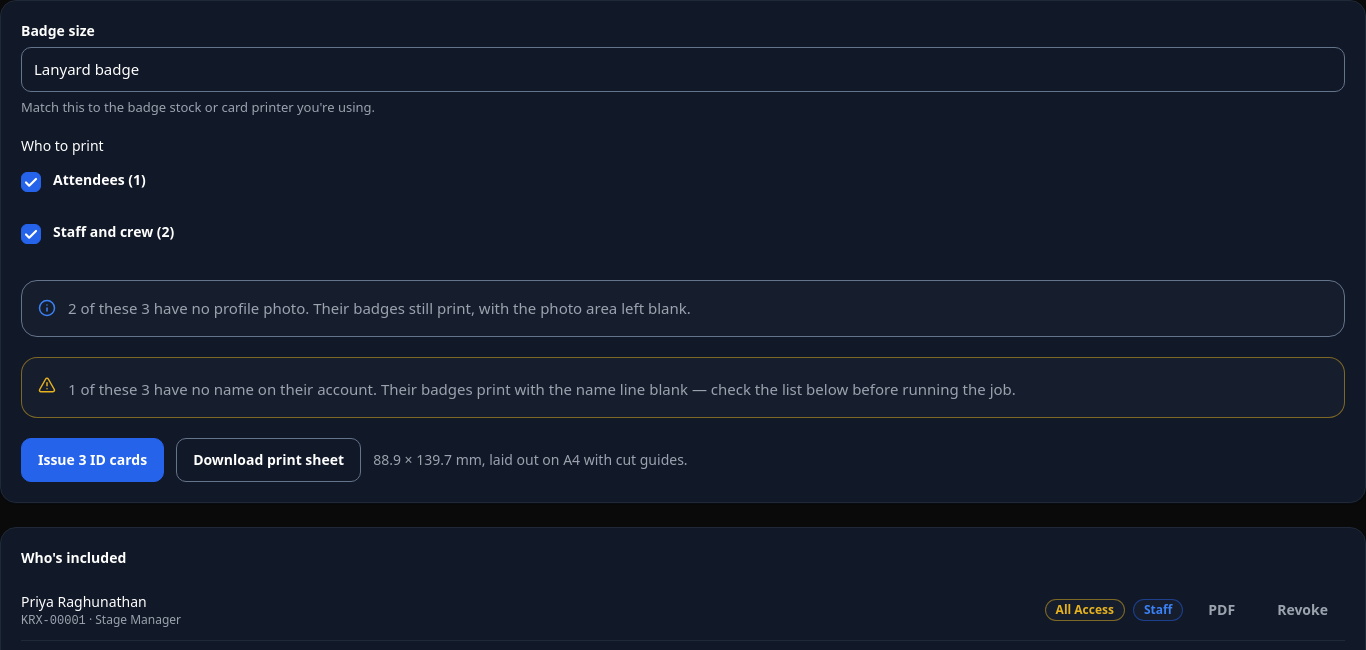
Scenario: the print run › says nothing was printed when the sheet fails
The image size is (1366, 650).
Click the button "Download print sheet": coordinates (269, 460) [176,438,361,482]
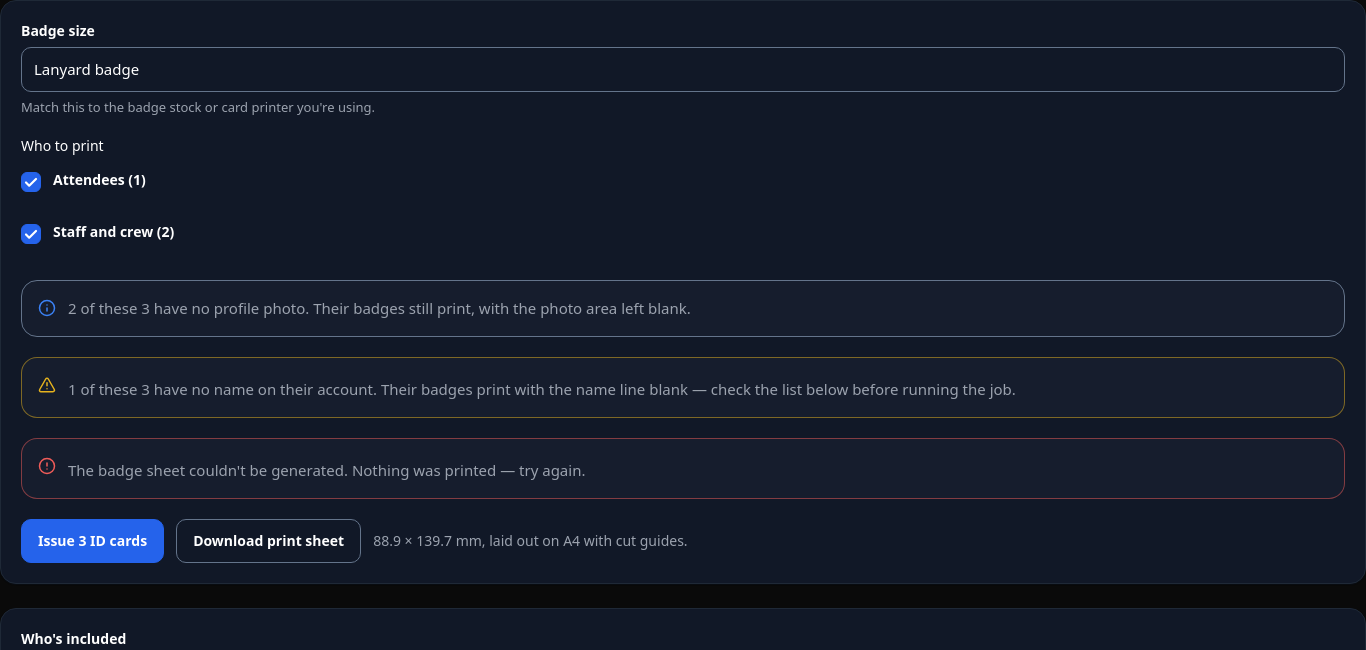
Check: the text "Nothing was printed" is shown, box [68,460,586,480]
